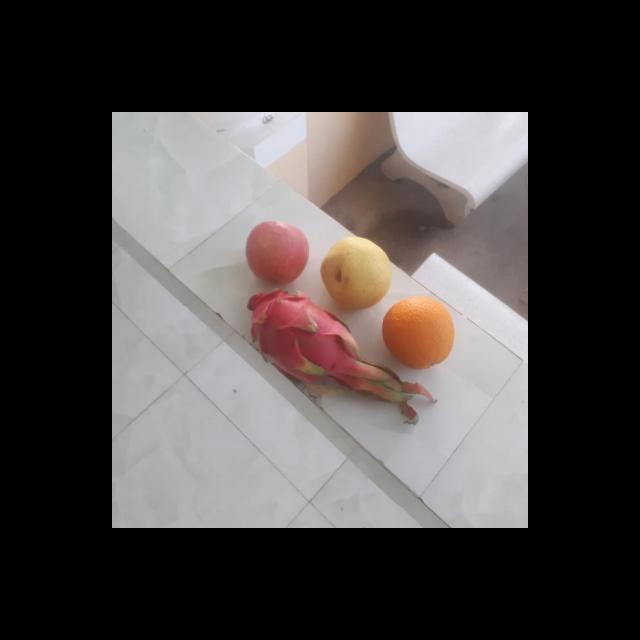apple: (242, 221, 310, 284)
orange: (380, 296, 456, 370)
pear: (318, 237, 394, 309)
pitaya: (244, 290, 350, 376)
